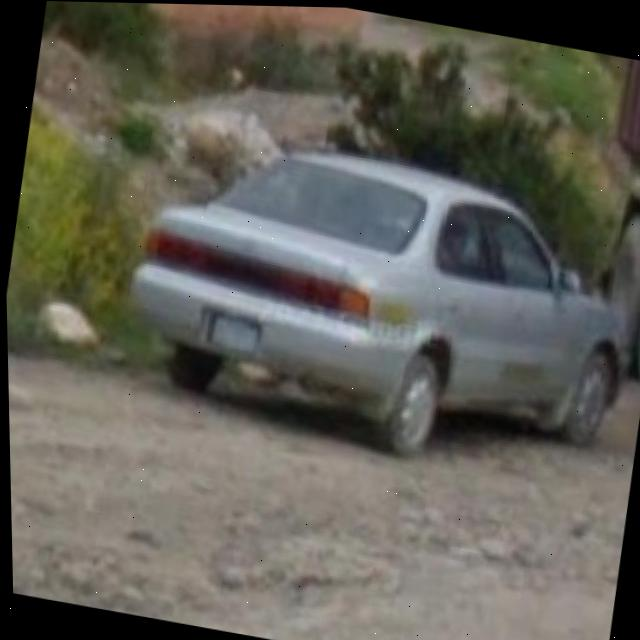vehicle: (104, 83, 640, 488)
